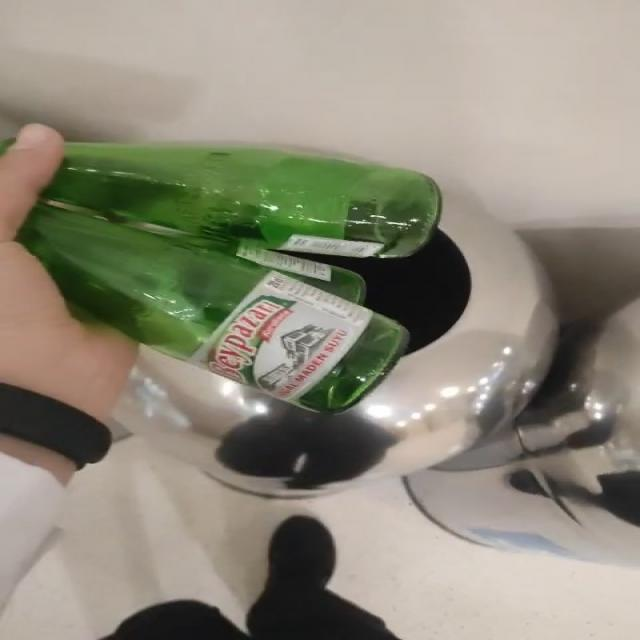Glass: (17, 144, 441, 413)
